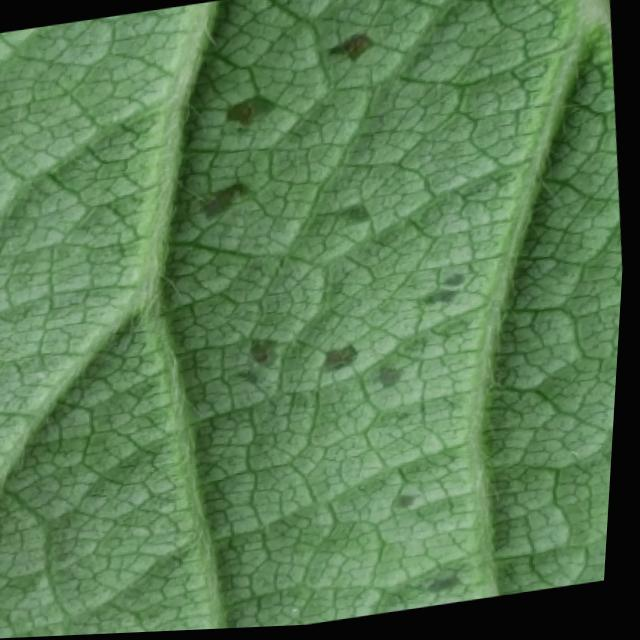Angular Leafspot: (181, 0, 526, 614)
